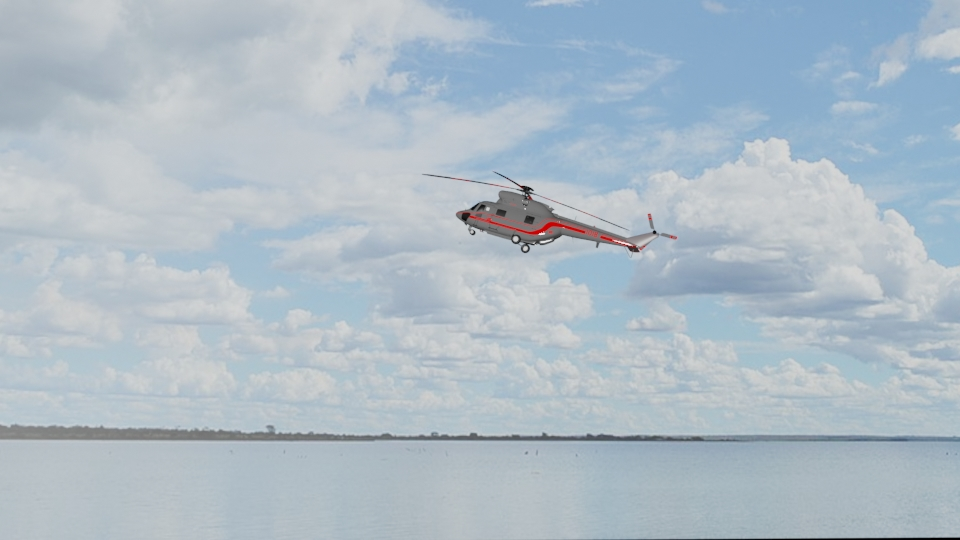heli: (435, 169, 677, 257)
